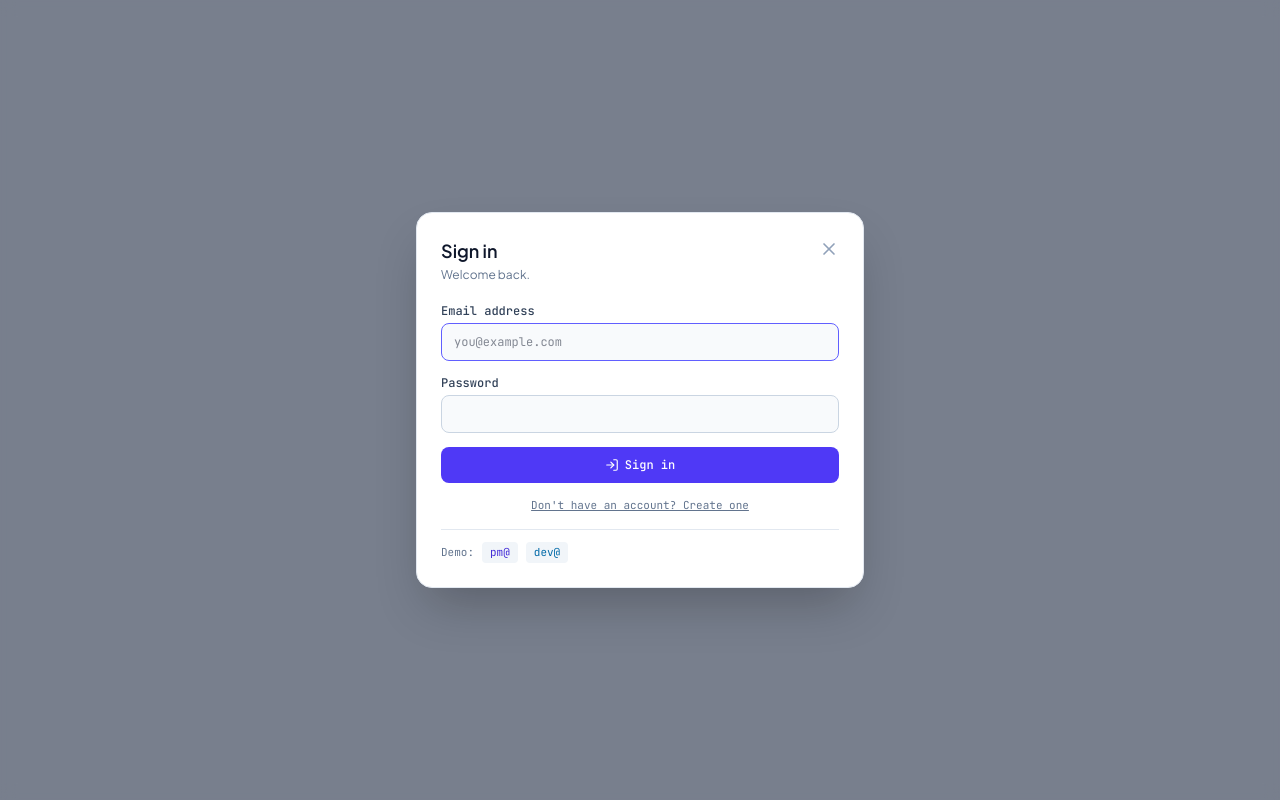
Test: failure handling › shows the server message and does not sign the user in
Type "ada@example.com" into the field with id "auth-email" at (640,342), box [441, 323, 839, 361]
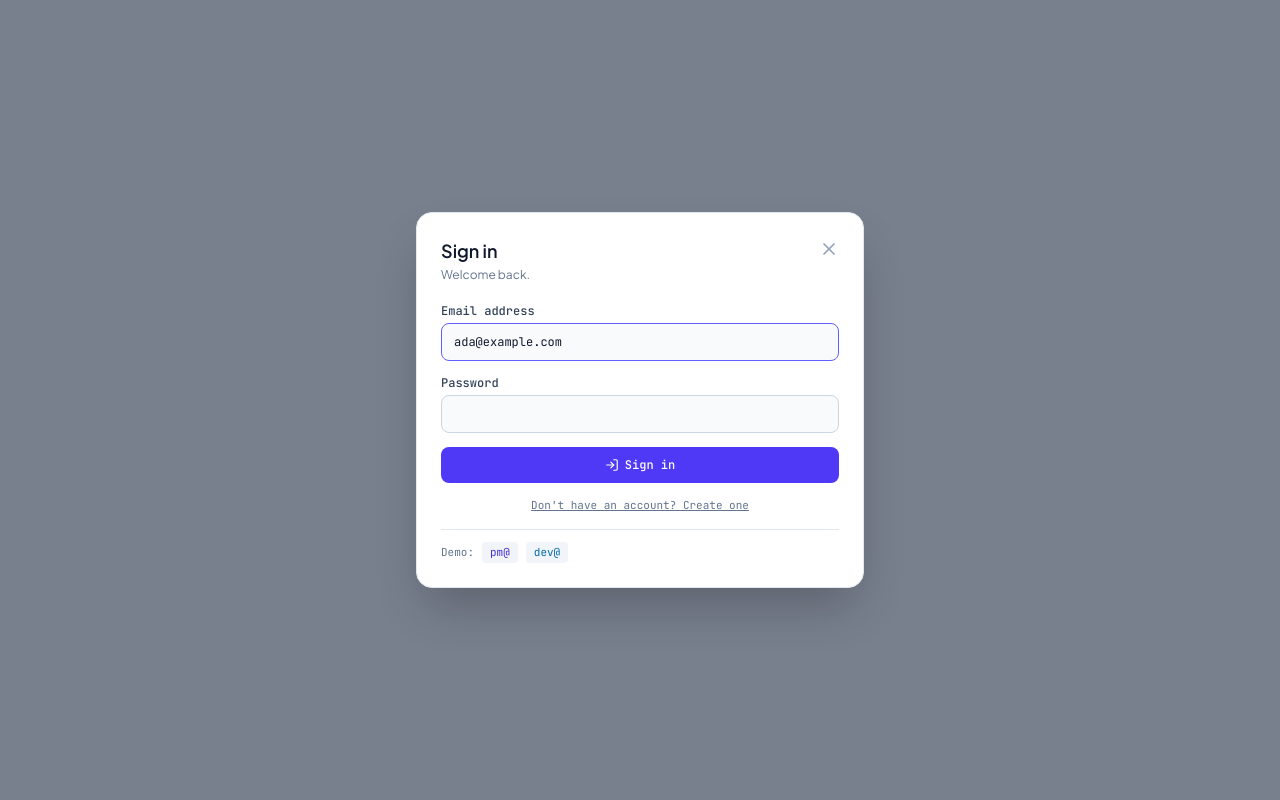
Type "wrong" into the password field with id "auth-password" at (640,414), box [441, 395, 839, 433]
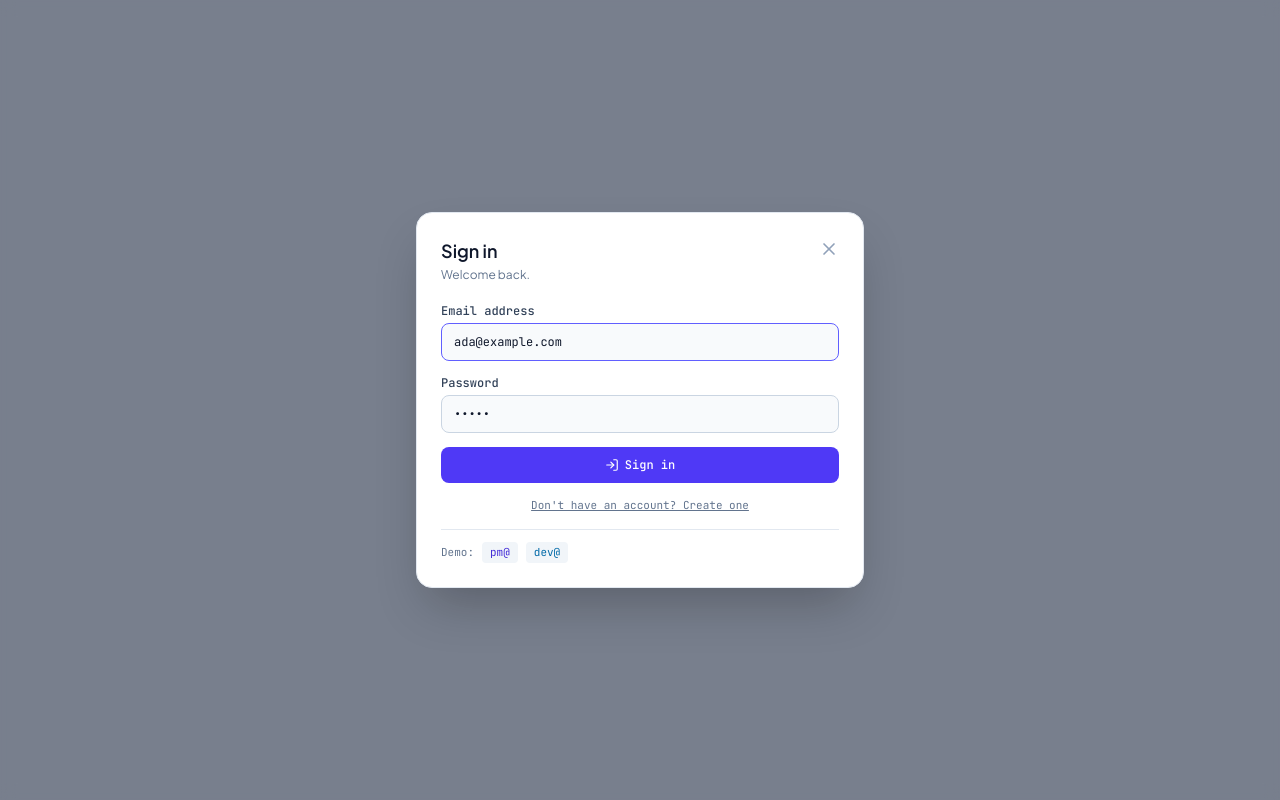
Submit the form, box [441, 303, 839, 513]
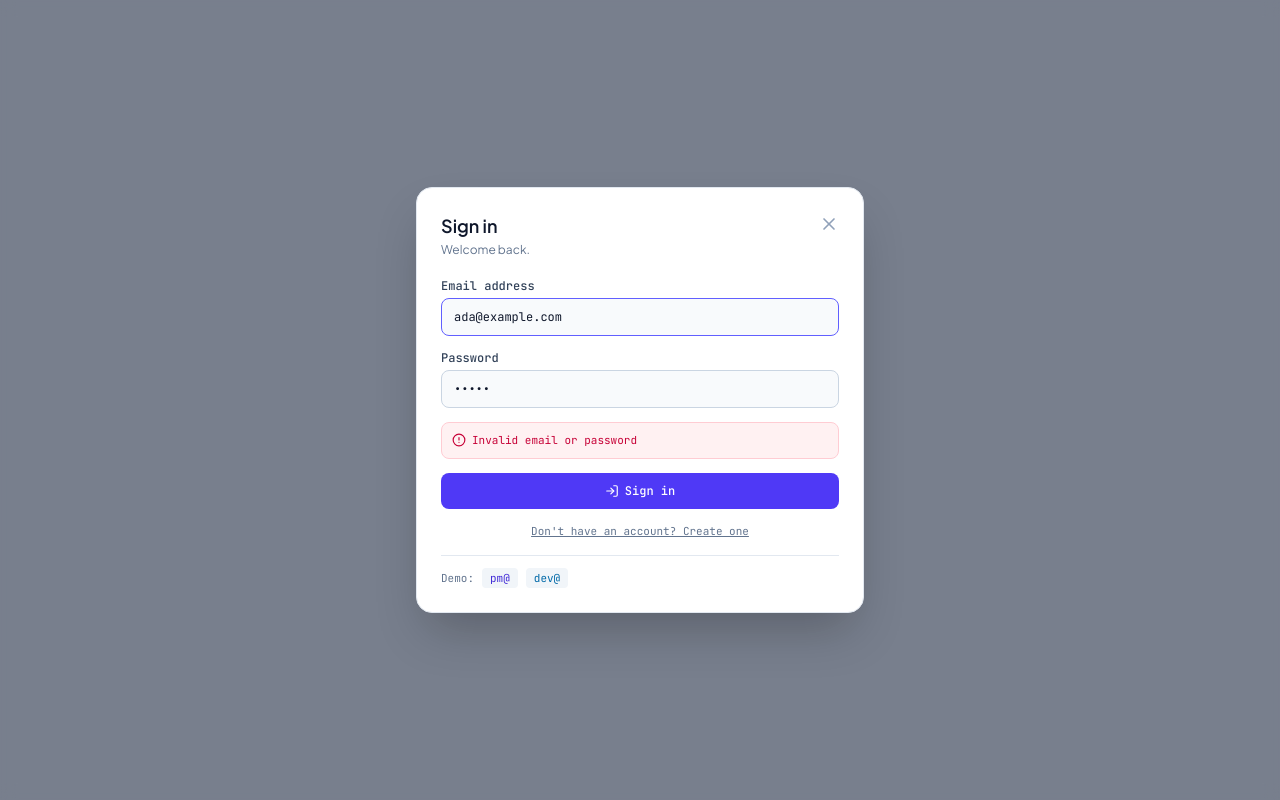
Expected: the text "Invalid email or password" is shown, [472, 433, 637, 448]
